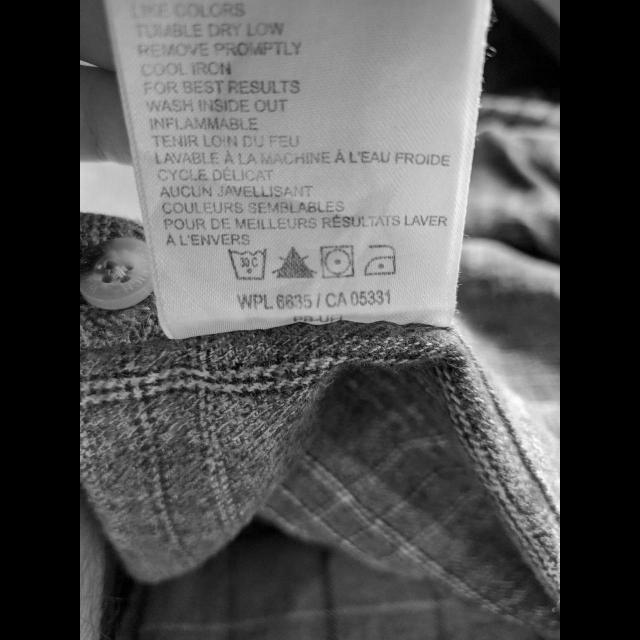30C: (224, 248, 270, 282)
DN_bleach: (270, 245, 318, 281)
iron_low: (360, 240, 398, 278)
tumble_dry_low: (318, 242, 357, 280)
